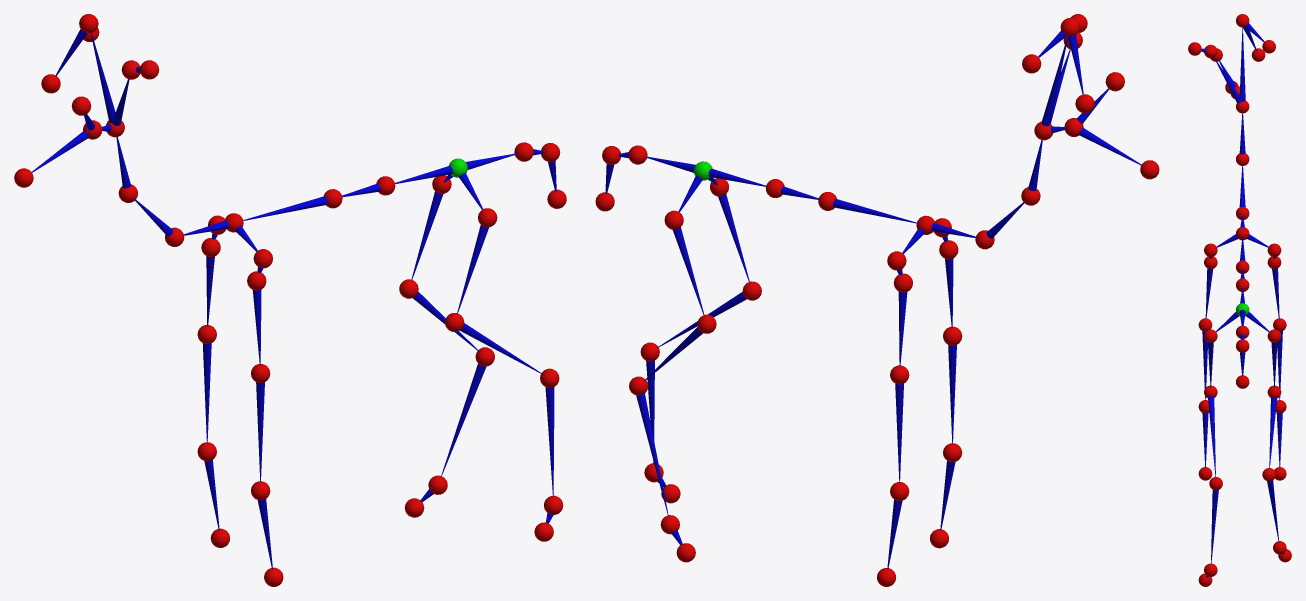
The model's file is deer_skel.obj.
3 renders of one model, left to right at view 1: azimuth 30°, elevation 25°; view 2: azimuth 150°, elevation 25°; view 3: azimuth 270°, elevation 25°, orthographic. The views are drawn at different scales.
Size of the model in its own units: 0.6606 by 0.6919 by 0.1528.
